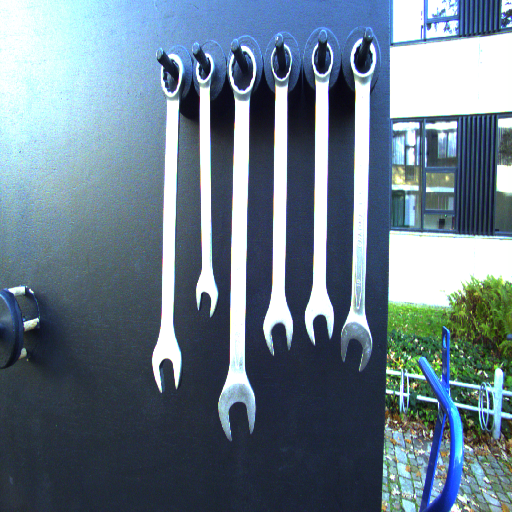bottom: (215, 383, 257, 442), (337, 321, 375, 374), (150, 347, 186, 395), (259, 313, 295, 357), (302, 303, 335, 345), (192, 278, 221, 318)
top: (224, 45, 261, 97), (155, 50, 188, 99), (347, 37, 380, 81), (267, 42, 295, 86), (308, 40, 335, 79), (192, 51, 217, 87)
